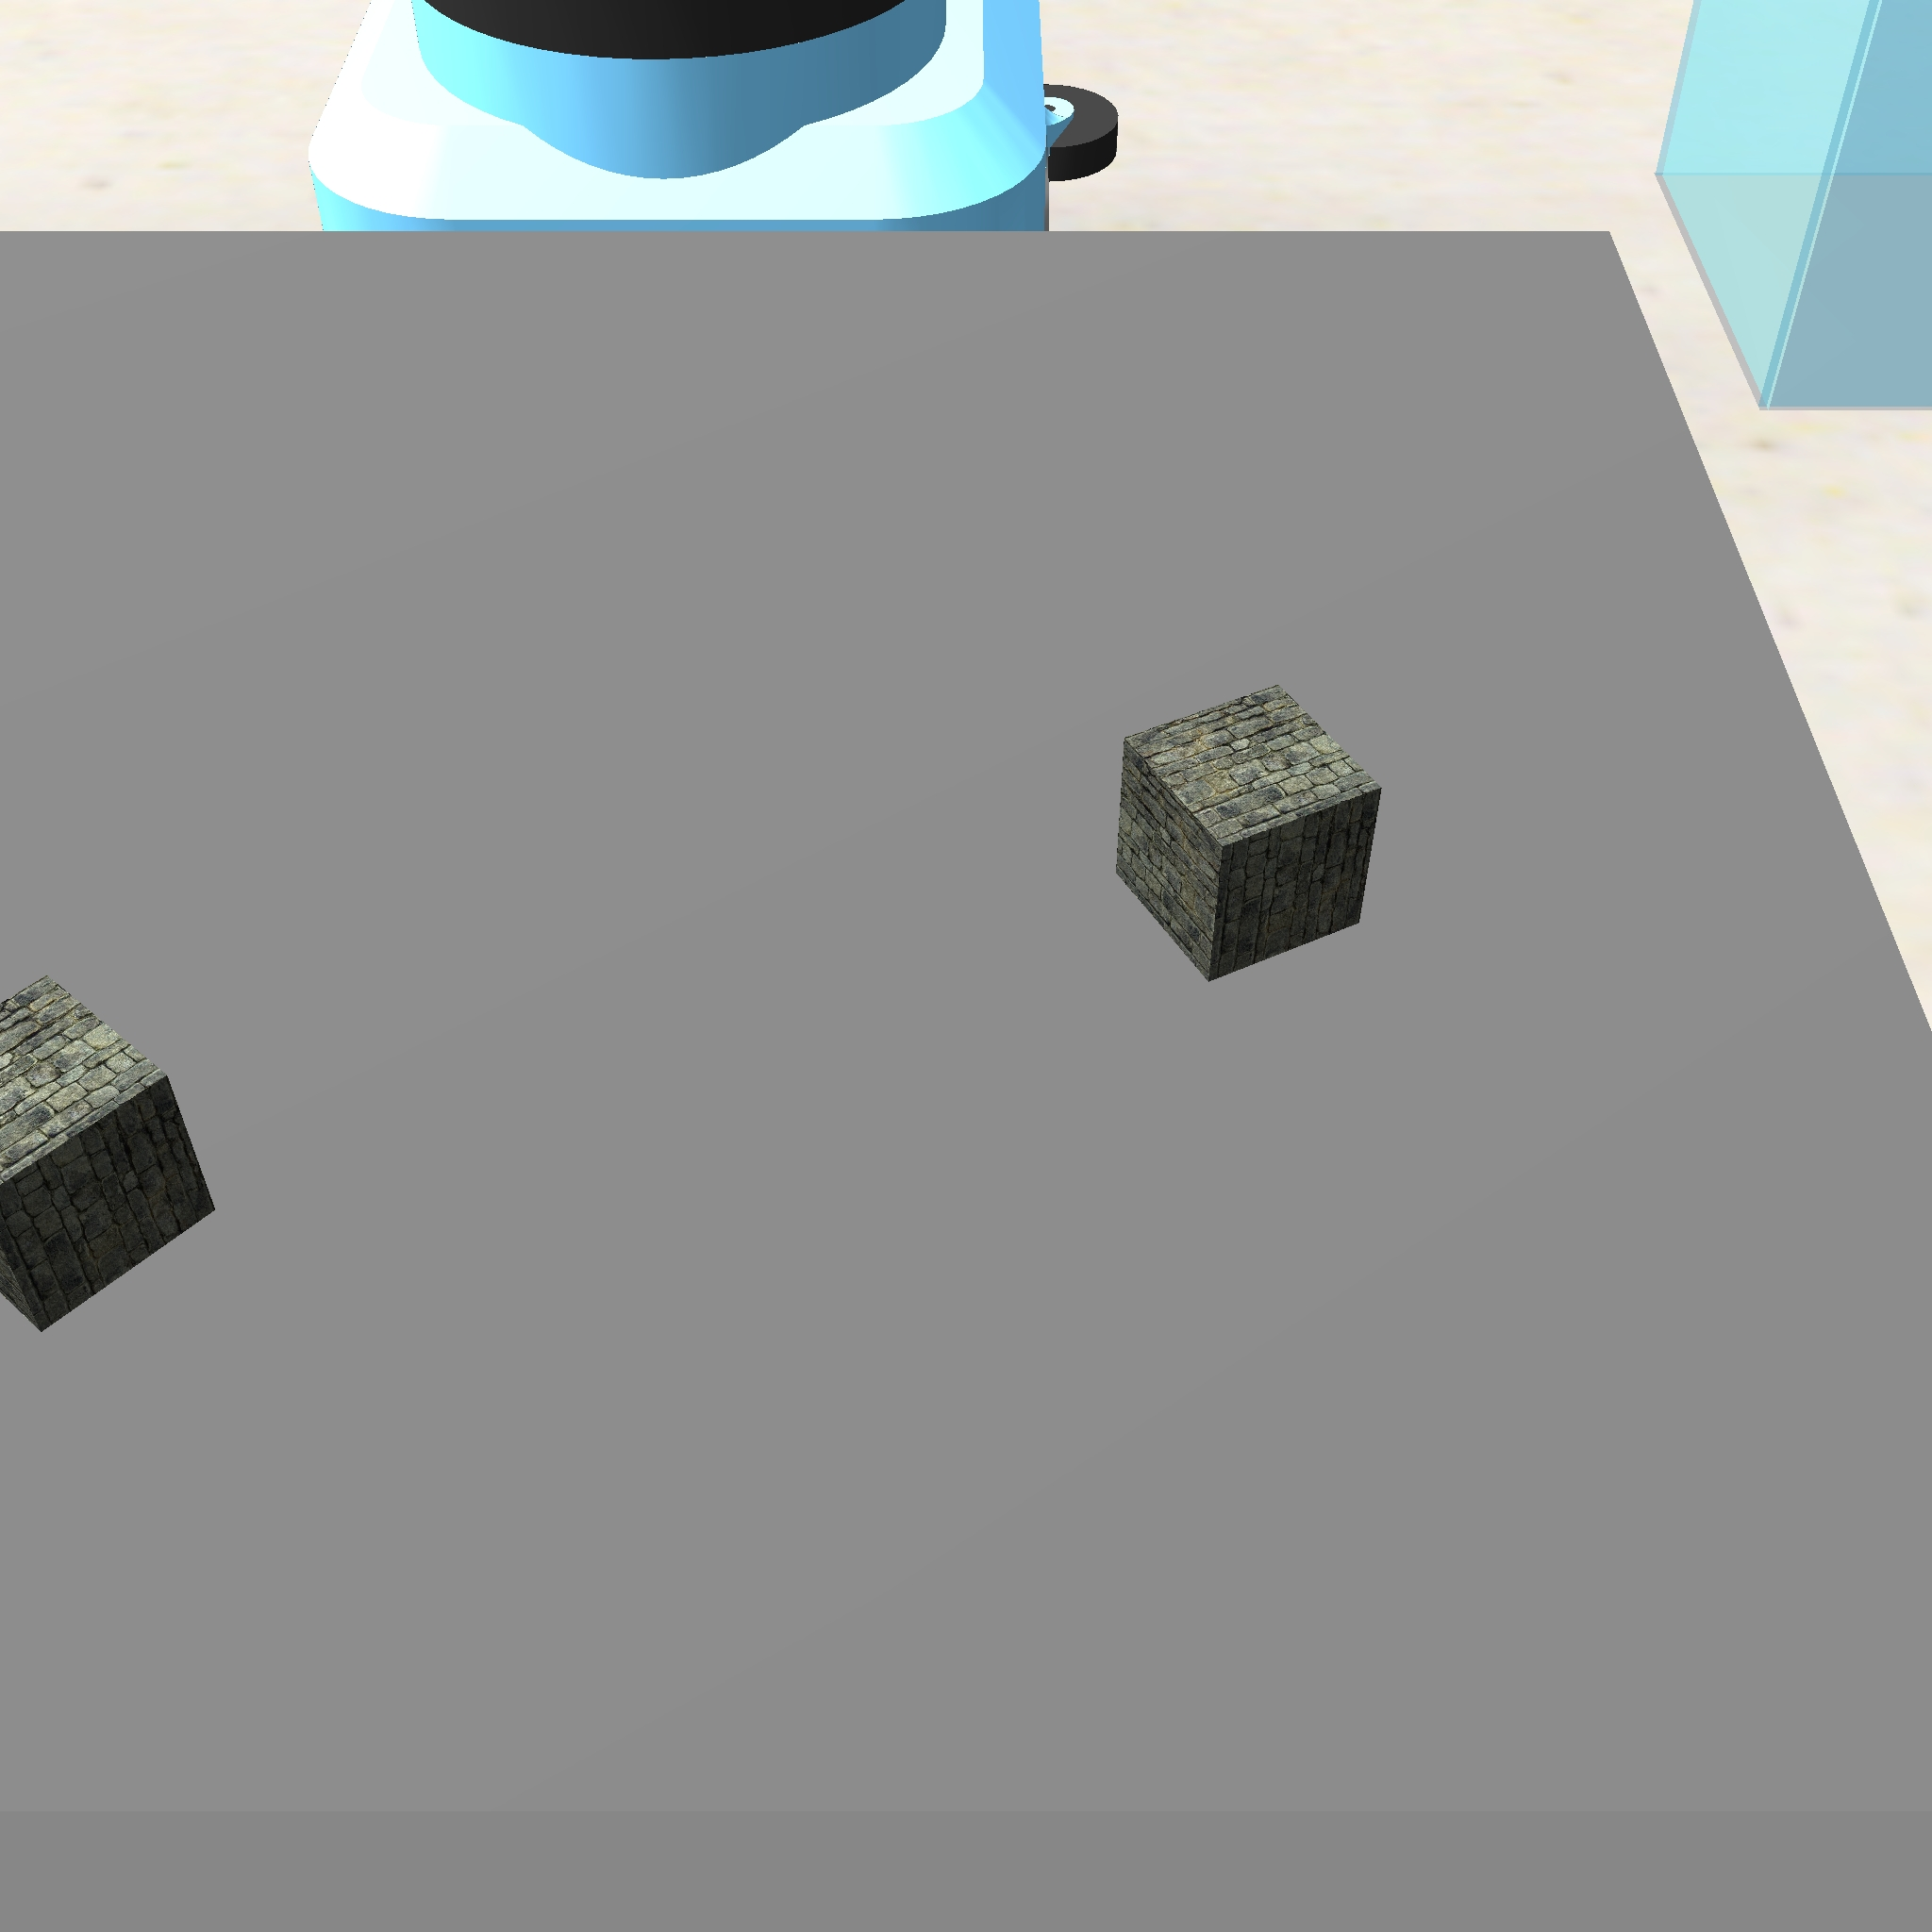cube: (1108, 674, 1387, 985), (0, 962, 225, 1339)
